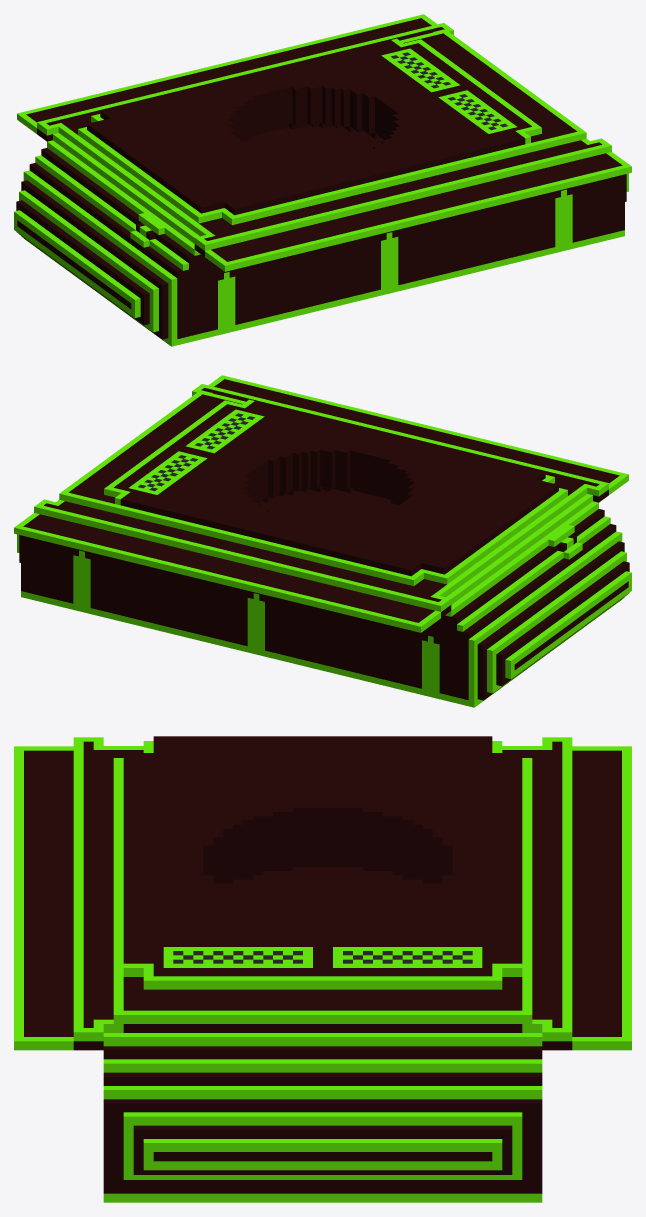
The model's file is NeonLightTankPlayer-3.obj.
3 views of the same model, one above another, from view 1: azimuth 30°, elevation 25°; view 2: azimuth 150°, elevation 25°; view 3: azimuth 270°, elevation 25° (orthographic). The views are drawn at different scales.
Bounding box in the file's own units: 8.5 × 1.9 × 6.2.
Materials: 1 (1 with a texture image).
